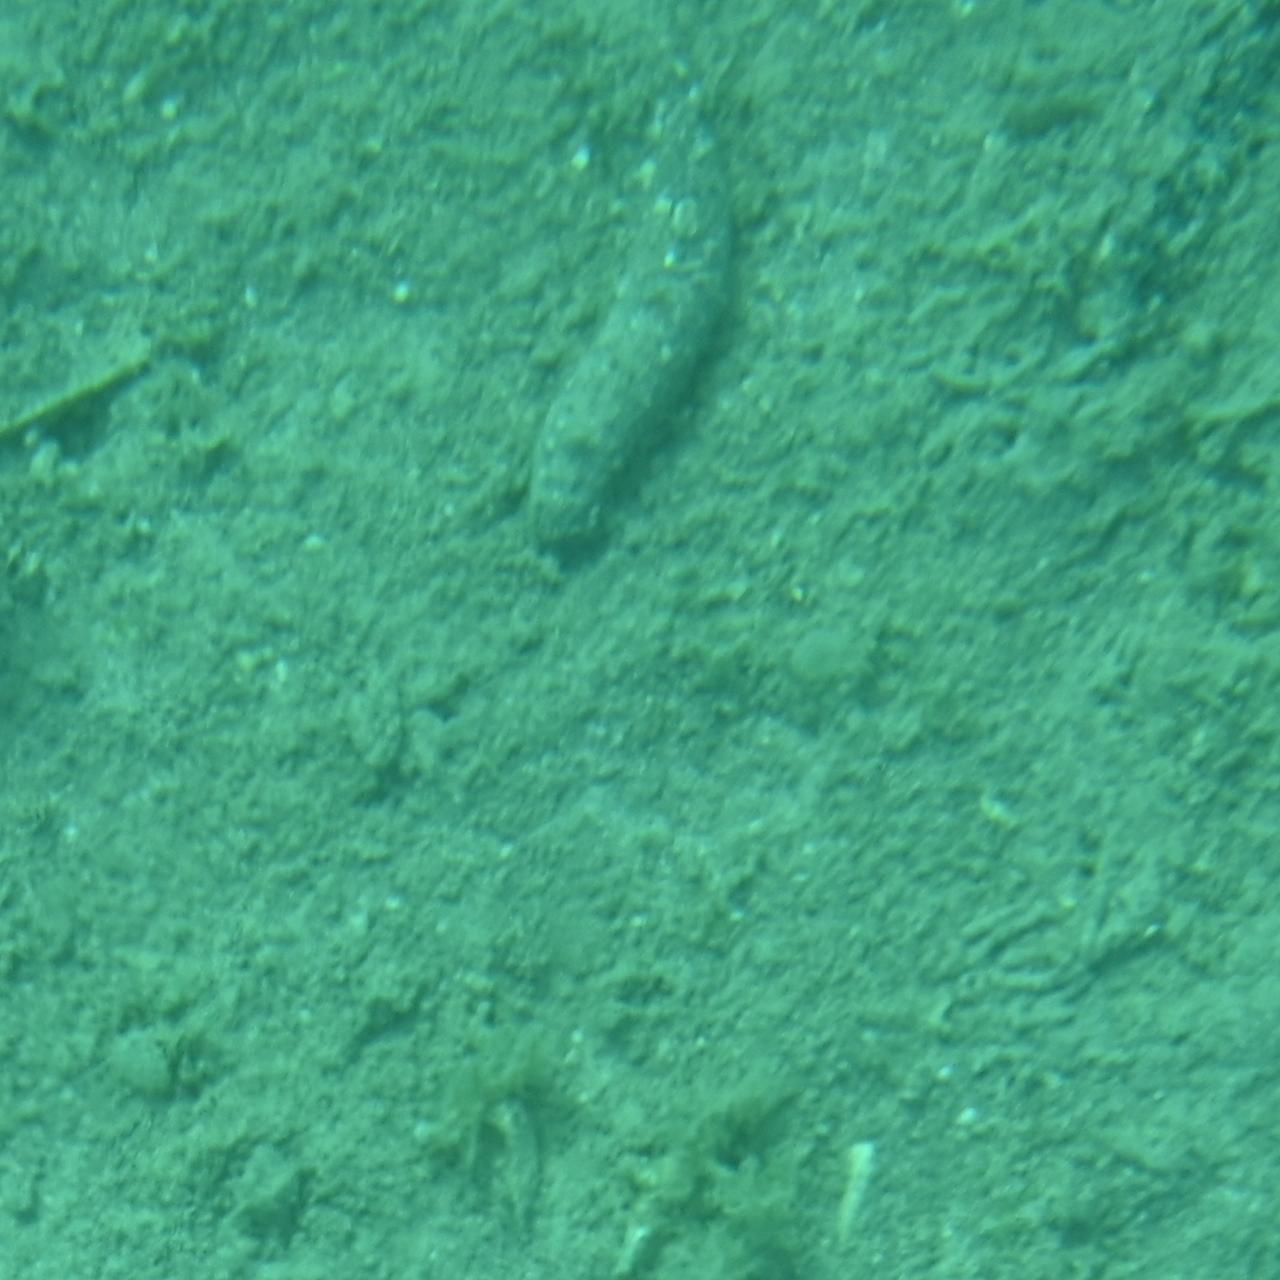Holothuria tubulosa: (532, 88, 748, 552)
